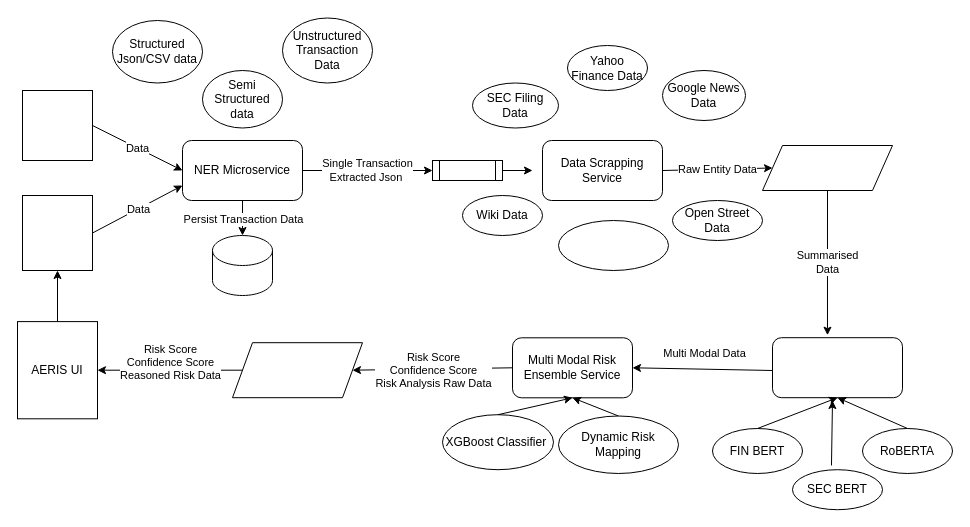
This 970x527 diagram has some shape labels left out. Each missing label, with the centre of its shape:
Adhoc API Data: the point at 57,232
BART CNN Summariser: the point at 827,167
Data File: the point at 57,125
Kafka: the point at 467,170
LIME/SHAP Explainability Model: the point at 297,370
MongoDB: the point at 242,265
Open Sanctions Data: the point at 613,245
Risk & Sentiments Analyzer service: the point at 837,367
